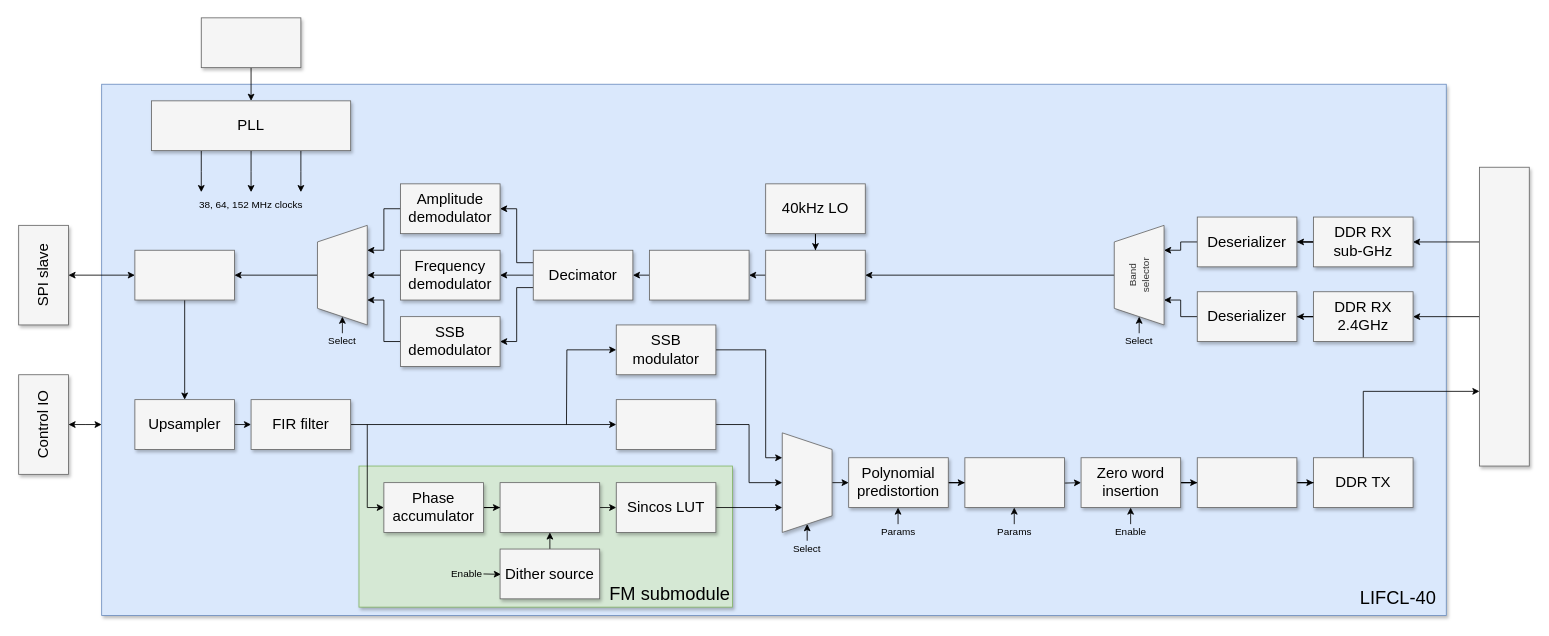
The diagram is 1549 pixels wide and 636 high, and some of its shapes have lost their labels. The centre of each missing label's shape, as x and y in pixels:
"26MHz TCXO" goes at (x=251, y=43).
"Amplitude modulator" goes at (x=666, y=425).
"AT86RF215" goes at (x=1505, y=317).
"Complex multiplier" goes at (x=816, y=276).
"Control registers" goes at (x=185, y=276).
"Demod selector" goes at (x=343, y=276).
"Dither adder" goes at (x=550, y=508).
"FIR channel filter" goes at (x=699, y=276).
"I/Q offset null" goes at (x=1015, y=483).
"Modulation selector" goes at (x=807, y=483).
"Serializer" goes at (x=1247, y=483).
